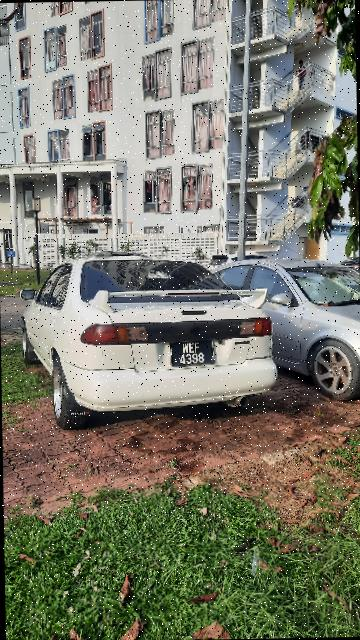License_Plate: (166, 338, 217, 370)
car: (16, 249, 277, 427), (206, 252, 360, 406)
